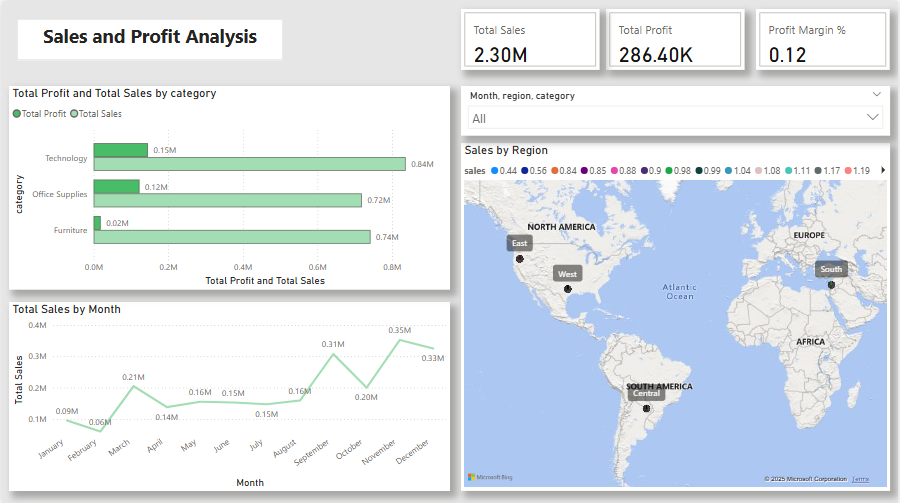

The dashboard page shown, as its layout file describes it:
{"tool":"powerbi","page":{"name":"Sales and Profit Analysis","canvas":[1280,720],"ordinal":0},"visuals":[{"type":"cardVisual","fields":{"Data":["public orders.Total Profit"]},"box":[863.4,11.8,198.2,87.3],"z":0},{"type":"textbox","box":[21.8,25.2,379.6,58.8],"z":1000},{"type":"cardVisual","fields":{"Data":["public orders.Total Sales"]},"box":[655.1,11.8,198.2,87.3],"z":2000},{"type":"cardVisual","fields":{"Data":["public orders.Profit Margin %"]},"box":[1076.7,11.8,191.5,87.3],"z":3000},{"type":"lineChart","fields":{"Category":["public orders.orderdate.Variation.Date Hierarchy.Month"],"Y":["public orders.Total Sales"]},"box":[10.1,430,629.9,270.4],"z":4000},{"type":"clusteredBarChart","fields":{"Category":["public orders.category"],"Y":["public orders.Total Profit","public orders.Total Sales"]},"box":[10.1,120.9,629.9,290.6],"z":5000},{"type":"map","title":"Sales by Region","fields":{"Category":["public orders.region"],"Series":["public orders.sales"]},"box":[655.1,203.3,613.1,497.2],"z":5001},{"type":"slicer","fields":{"Values":["public orders.orderdate.Variation.Date Hierarchy.Month","public orders.region","public orders.category"]},"box":[655.1,120.9,613.1,70.6],"z":5002}]}

Visuals, with their boxes in screenshot pixels (x1, y1, x2, y2), scaled from the page's 1280x720 canvas onto the 900x503 screenshot:
cardVisual - public orders.Total Profit: BBox(607, 8, 746, 69)
textbox: BBox(15, 18, 282, 59)
cardVisual - public orders.Total Sales: BBox(461, 8, 600, 69)
cardVisual - public orders.Profit Margin %: BBox(757, 8, 892, 69)
lineChart - public orders.orderdate.Variation.Date Hierarchy.Month x public orders.Total Sales: BBox(7, 300, 450, 489)
clusteredBarChart - public orders.category x public orders.Total Profit: BBox(7, 84, 450, 287)
"Sales by Region" map: BBox(461, 142, 892, 489)
slicer - public orders.orderdate.Variation.Date Hierarchy.Month x public orders.region: BBox(461, 84, 892, 134)
